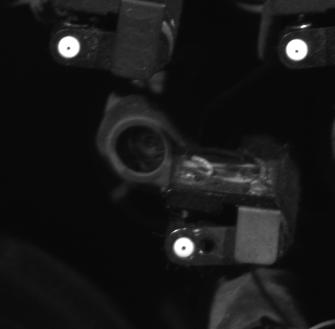fiber: (169, 231, 201, 264), (282, 35, 315, 64), (53, 33, 84, 61)
